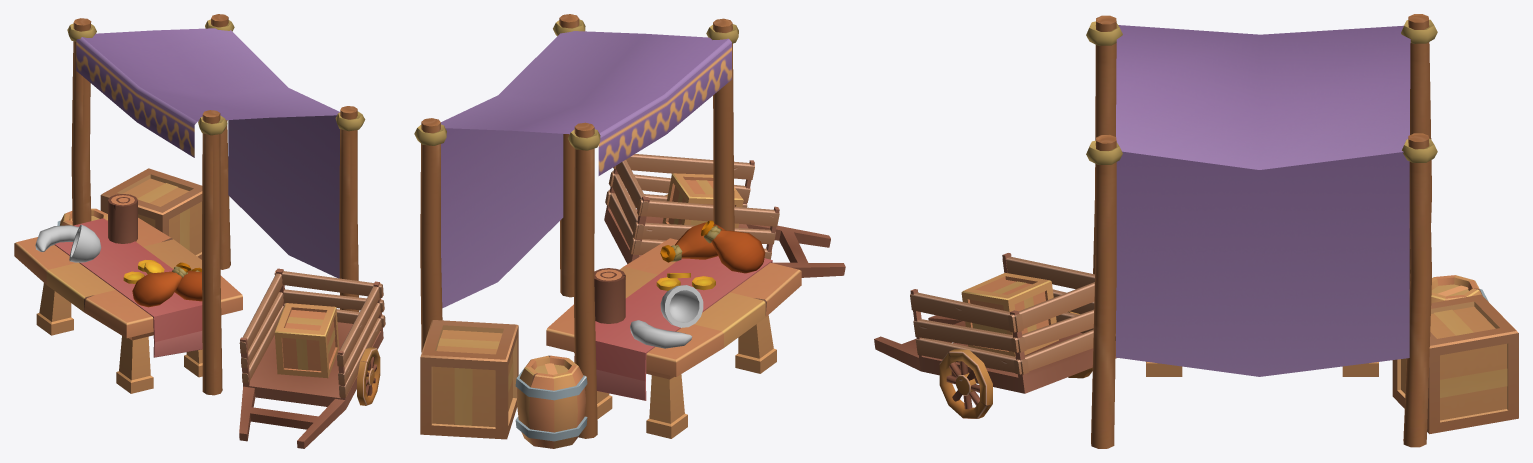
Rendered from Shop.fbx.
The picture shows the model from 3 angles, left to right: view 1: azimuth 30°, elevation 25°; view 2: azimuth 150°, elevation 25°; view 3: azimuth 270°, elevation 25°; orthographic projection. The views are drawn at different scales.
Visible parts, largest first — view 1: Tent-01, Shop; view 2: Shop, Tent-01; view 3: Tent-01, Shop.
Part boxes in pixels (bbox=[...]): Tent-01: bbox=[67, 14, 365, 395]; Shop: bbox=[14, 168, 385, 448]; Shop: bbox=[420, 154, 845, 448]; Tent-01: bbox=[414, 14, 738, 438]; Tent-01: bbox=[1086, 14, 1437, 448]; Shop: bbox=[874, 253, 1518, 434].
Bounding box in the file's own units: 1.23 × 1.4 × 2.39.
